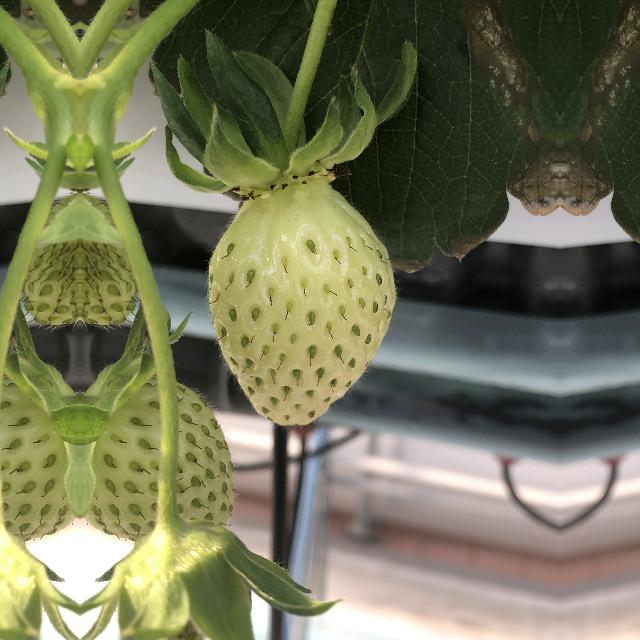Health_25: (200, 181, 402, 431)
